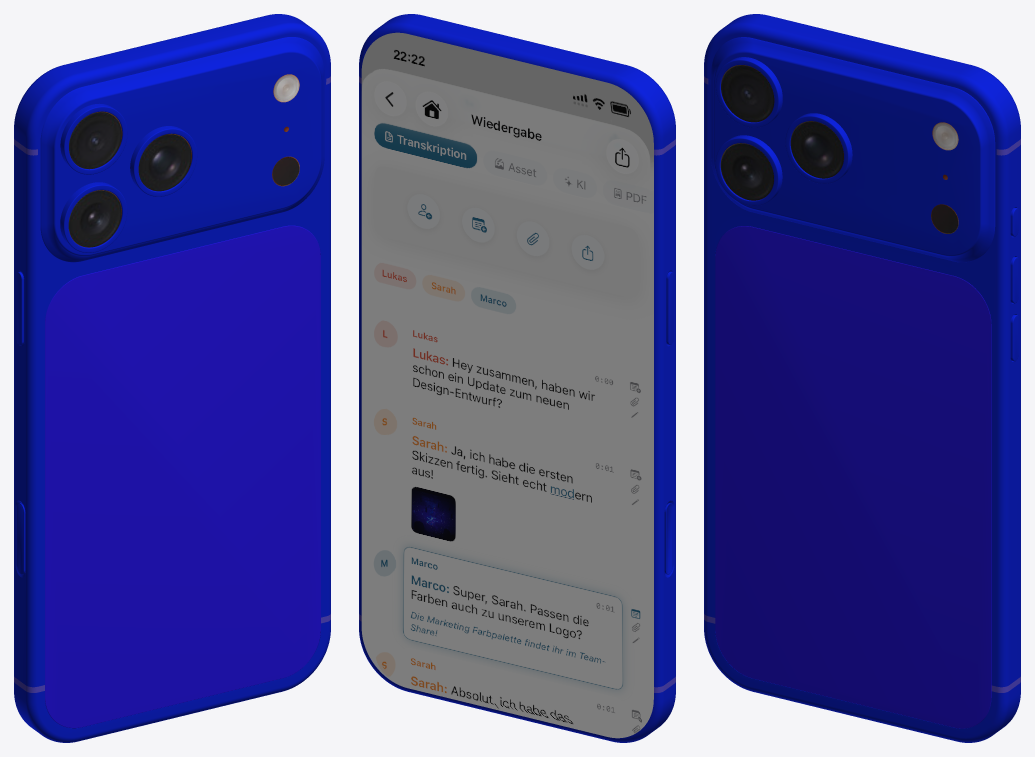
Rendered from iphone-de-left.glb.
The picture shows the model from 3 angles, left to right: view 1: azimuth 30°, elevation 25°; view 2: azimuth 150°, elevation 25°; view 3: azimuth 330°, elevation 25°; orthographic projection.
Parts seen in each view (by area): view 1: Body; view 2: Body; view 3: Body.
Boxes of the visible parts, box(x1,y1,x2,y2) form: Body: box(14, 14, 330, 742); Body: box(359, 14, 675, 742); Body: box(704, 14, 1020, 742).
Bounding box in the file's own units: 2.21 × 4.58 × 0.3632.
9 materials, 3 textured.
